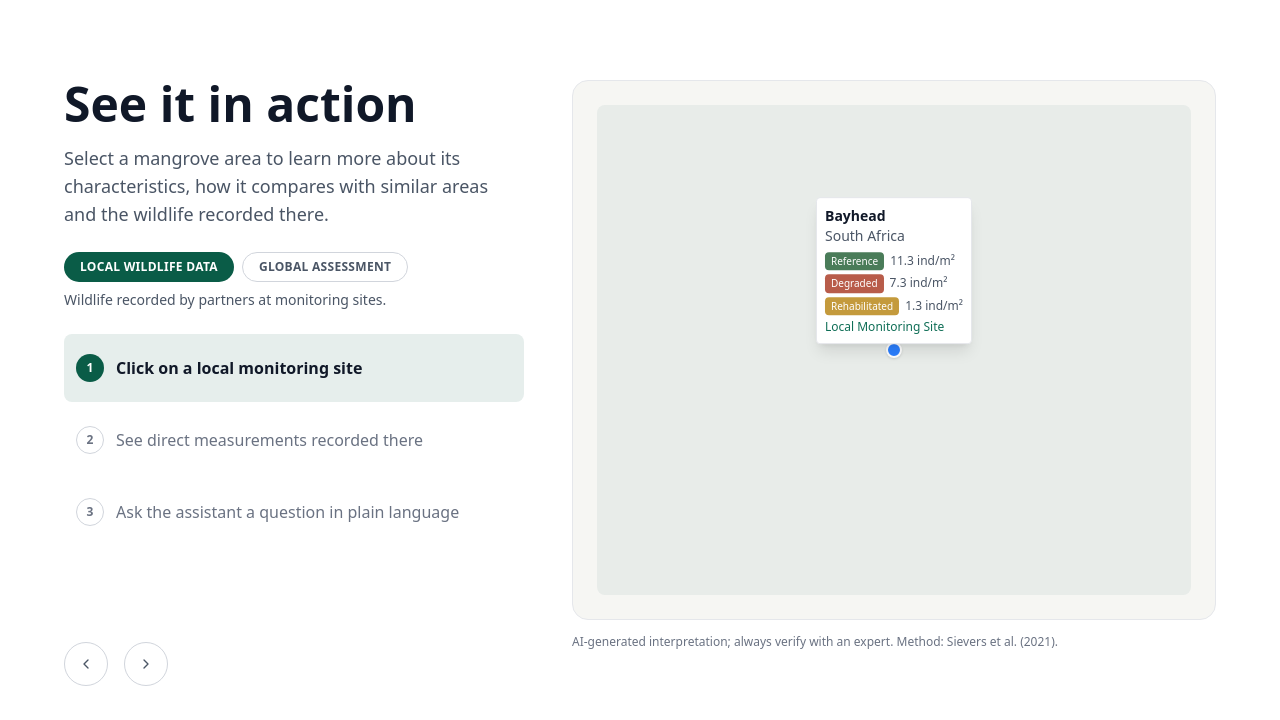
carousel assistant › shows a global-only summary, highlighted, without the local-data chip
Click the button "Global assessment" at (325,267), box [242, 252, 408, 282]
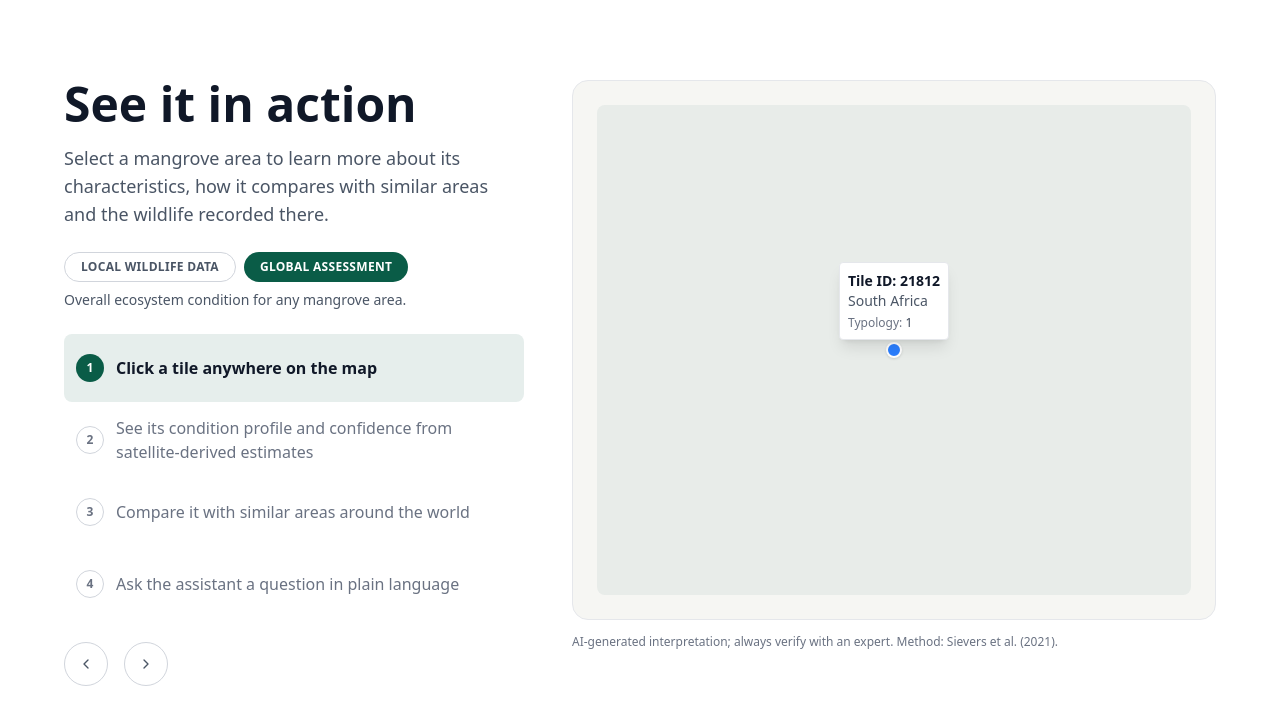
Click the button "Ask the assistant a question in plain language" at (294,584), box [64, 550, 524, 618]
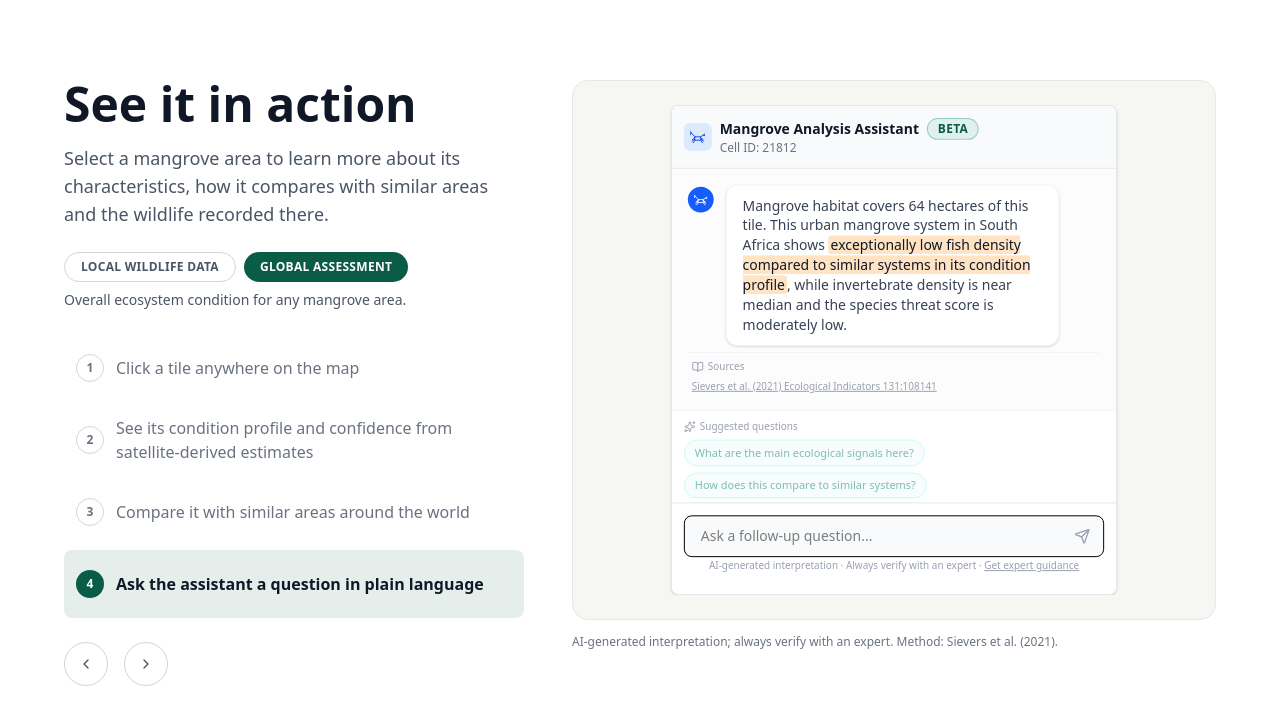
Expected: the text "exceptionally low fish density compared to similar systems in its condition profile" is shown, [743, 236, 1031, 294]
Expected: the text "covers 64 hectares" is shown, [743, 196, 1028, 255]
